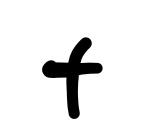plus: (43, 36, 103, 119)
